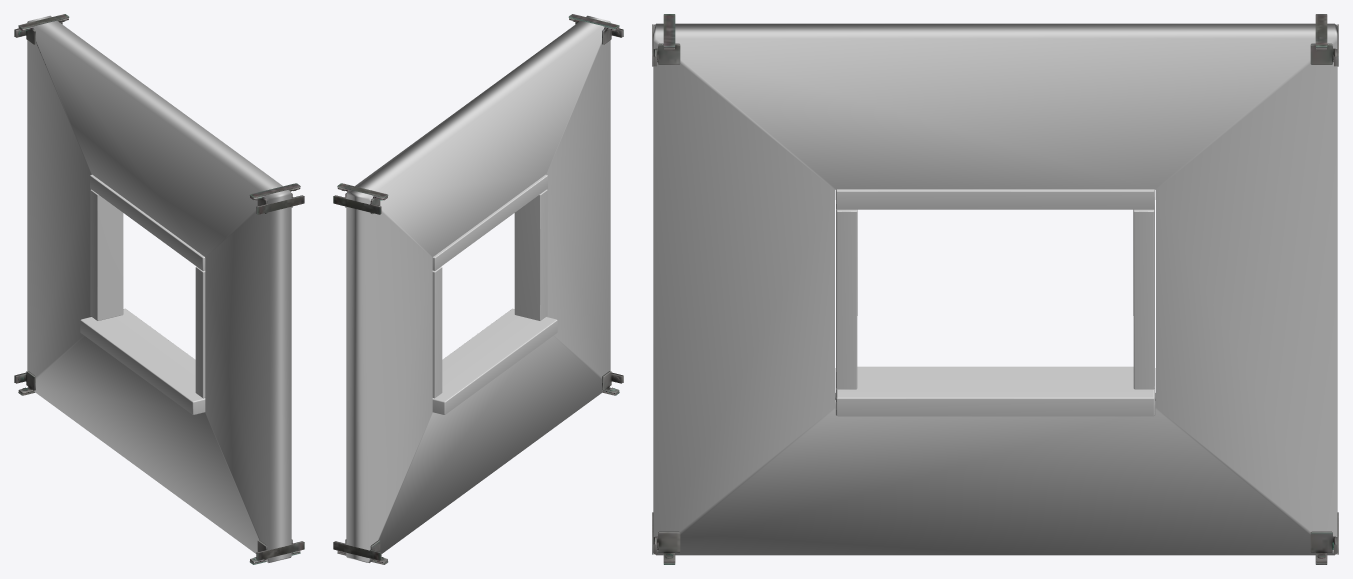
The model's file is SM_WallWindow_Glass_81bd99.glb.
3 views of the same model, side by side, from view 1: azimuth 30°, elevation 25°; view 2: azimuth 150°, elevation 25°; view 3: azimuth 270°, elevation 25° (orthographic). The views are drawn at different scales.
Bounding box in the file's own units: 0.4499 × 3.34 × 4.01.
2 materials, 1 textured.
